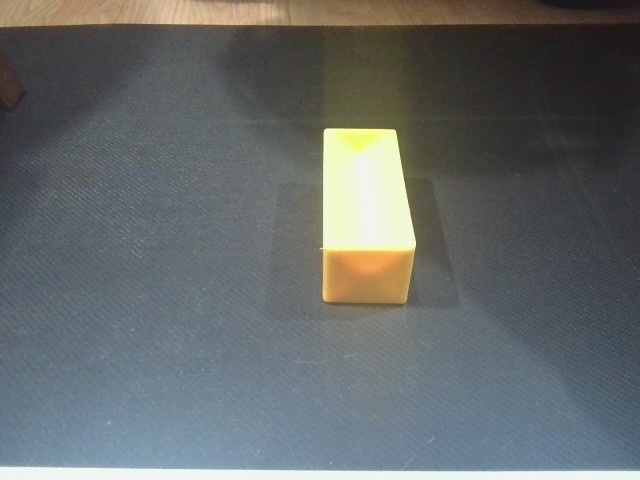YellowSample: (316, 125, 418, 308)
